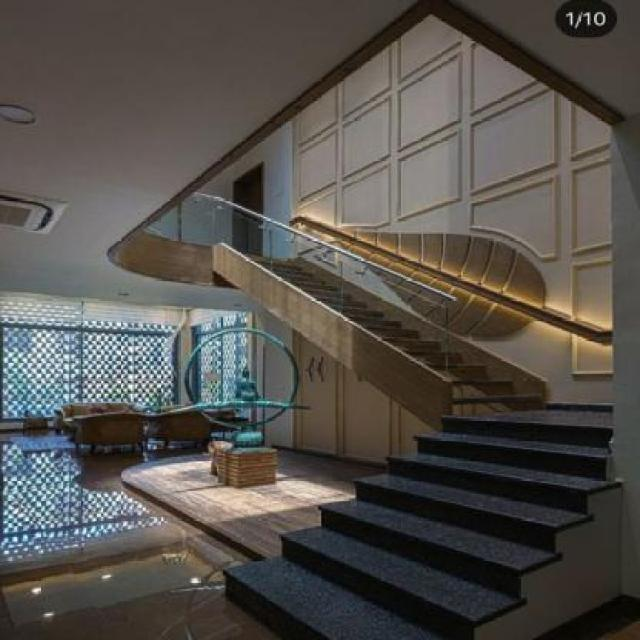stair: (211, 398, 638, 639), (186, 242, 551, 388)
